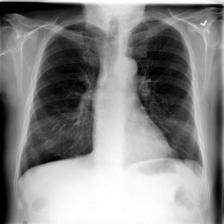normal: (13, 16, 207, 185)
